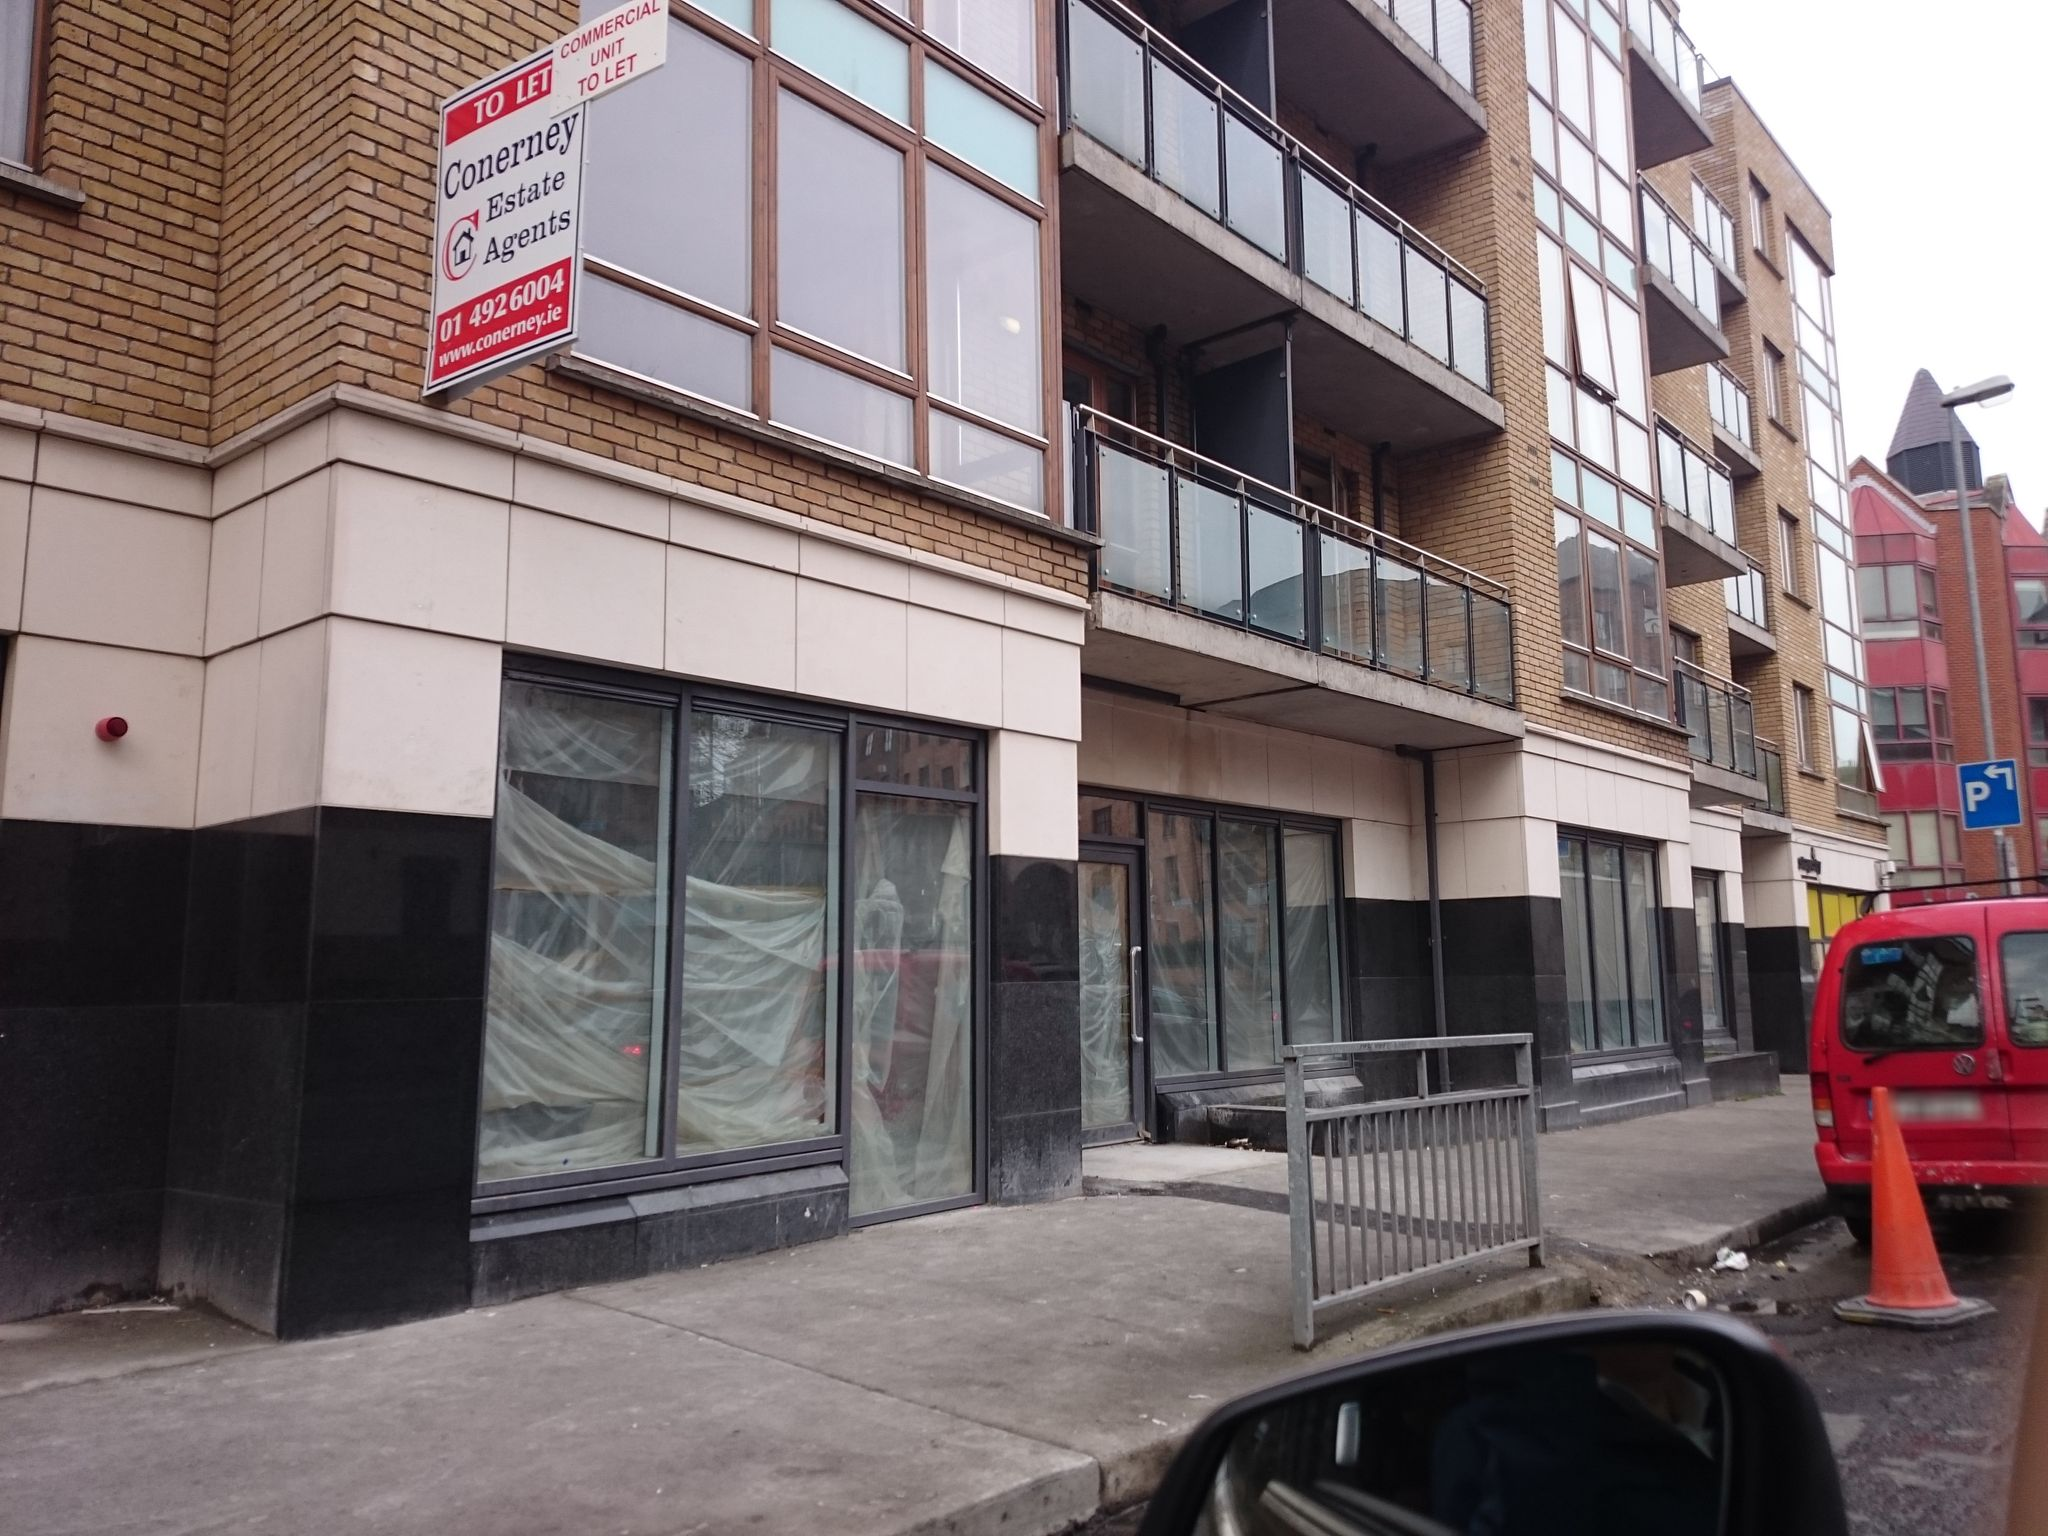property sign: (418, 26, 595, 379)
